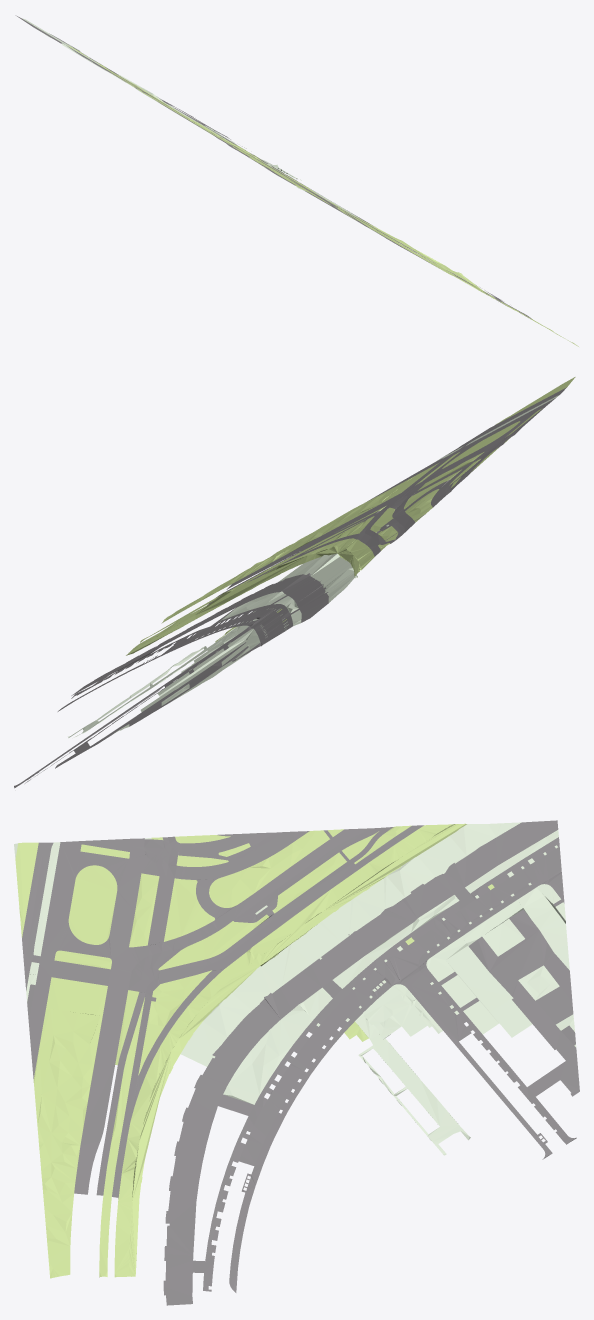
3 views of the same model, one above another, from view 1: azimuth 30°, elevation 25°; view 2: azimuth 150°, elevation 25°; view 3: azimuth 270°, elevation 25° (orthographic). The views are drawn at different scales.
Bounding box in the file's own units: 205 × 150 × 259.
